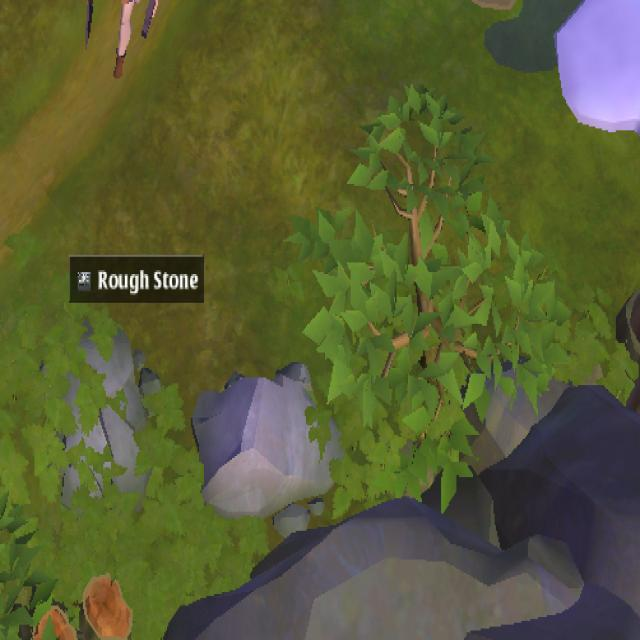stone: (176, 343, 366, 530)
